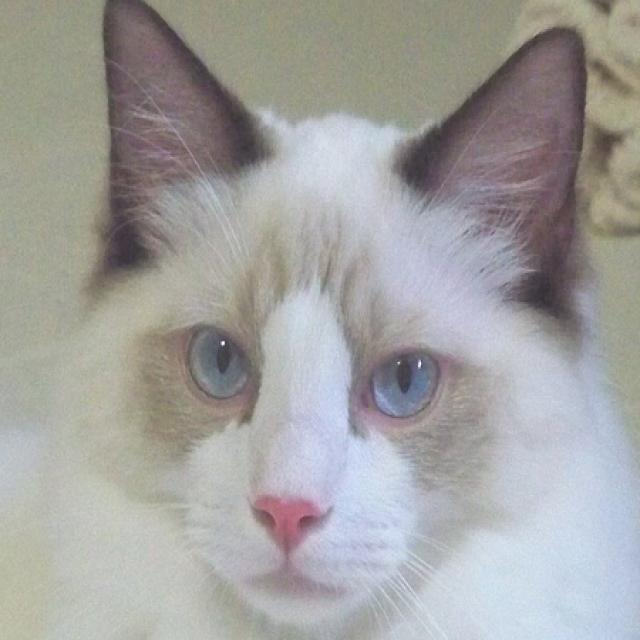Ragdoll: (18, 0, 640, 640)
